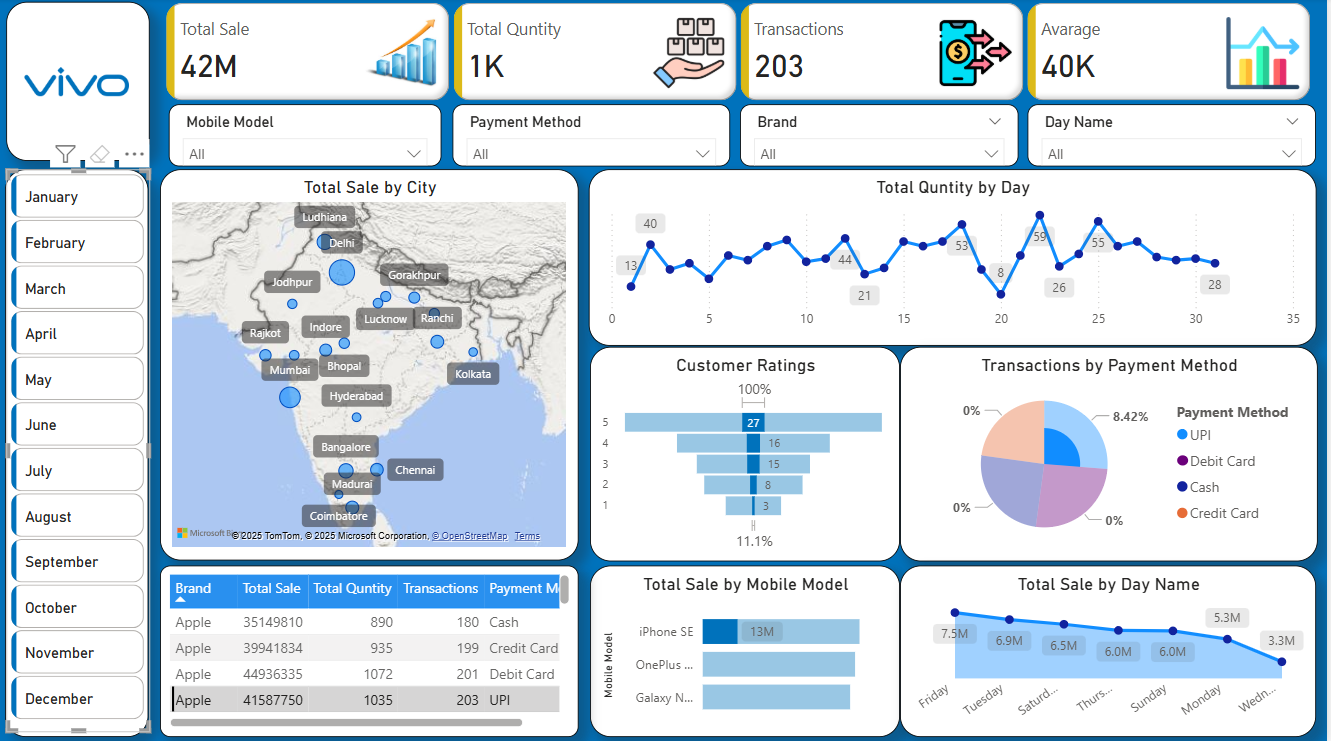

This screenshot's page, from the dashboard's own definition file:
{"tool":"powerbi","page":{"name":"Page 1","canvas":[1280,720],"ordinal":0},"visuals":[{"type":"shape","box":[6,3.6,138.7,153.2],"z":0},{"type":"image","box":[13.3,12.1,121.9,137.5],"z":1000},{"type":"shape","box":[4.8,165.3,138.7,547.7],"z":2000},{"type":"advancedSlicerVisual","fields":{"Values":["Mobile_Sale_Data.Date.Variation.Date Hierarchy.Month"]},"box":[6,165.3,138.7,542.9],"z":3000},{"type":"cardVisual","fields":{"Data":["Mobile_Sale_Data.Total Sale","Mobile_Sale_Data.Total Quntity","Mobile_Sale_Data.Transactions","Mobile_Sale_Data.Avarage"]},"box":[155.6,0,1116,105],"z":4000},{"type":"map","fields":{"Category":["Mobile_Sale_Data.City"],"Size":["Mobile_Sale_Data.Total Sale"]},"box":[154.4,165.3,404.2,377.6],"z":5000},{"type":"lineChart","fields":{"Y":["Mobile_Sale_Data.Total Quntity"],"Category":["Mobile_Sale_Data.Date.Variation.Date Hierarchy.Month","Mobile_Sale_Data.Date.Variation.Date Hierarchy.Day"]},"box":[568.2,165.3,702.1,170.1],"z":6000},{"type":"clusteredBarChart","fields":{"Category":["Mobile_Sale_Data.Mobile Model"],"Y":["Mobile_Sale_Data.Total Sale"]},"box":[569.4,547.7,299.2,165.3],"z":7000},{"type":"pieChart","fields":{"Category":["Mobile_Sale_Data.Payment Method"],"Y":["Mobile_Sale_Data.Transactions"]},"box":[868.6,336.6,403,207.5],"z":8000},{"type":"funnel","title":" Customer Ratings","fields":{"Category":["Mobile_Sale_Data.Customer Ratings"],"Y":["CountNonNull(Mobile_Sale_Data.Customer Ratings)"]},"box":[569.4,336.6,299.2,207.5],"z":9000},{"type":"areaChart","fields":{"Category":["Mobile_Sale_Data.Day Name"],"Y":["Mobile_Sale_Data.Total Sale"]},"box":[868.6,547.7,401.7,165.3],"z":10000},{"type":"tableEx","fields":{"Values":["Mobile_Sale_Data.Brand","Mobile_Sale_Data.Total Sale","Mobile_Sale_Data.Total Quntity","Mobile_Sale_Data.Transactions","Mobile_Sale_Data.Payment Method"]},"box":[154.4,547.7,404.2,165.3],"z":11000},{"type":"slicer","fields":{"Values":["Mobile_Sale_Data.Mobile Model"]},"box":[162.9,102.5,263,60.3],"z":12000},{"type":"slicer","fields":{"Values":["Mobile_Sale_Data.Payment Method"]},"box":[436.7,102.5,267.8,60.3],"z":13000},{"type":"slicer","fields":{"Values":["Mobile_Sale_Data.Brand"]},"box":[714.2,102.5,269,60.3],"z":14000},{"type":"slicer","fields":{"Values":["Mobile_Sale_Data.Day Name"]},"box":[991.7,102.5,278.7,60.3],"z":15000}]}

Visuals, with their boxes in screenshot pixels (x1, y1, x2, y2), scaled from the page's 1280x720 canvas onto the 1331x741 screenshot:
shape: region(6, 4, 150, 161)
image: region(14, 12, 141, 154)
shape: region(5, 170, 149, 734)
advancedSlicerVisual - Mobile_Sale_Data.Date.Variation.Date Hierarchy.Month: region(6, 170, 150, 729)
cardVisual - Mobile_Sale_Data.Total Sale x Mobile_Sale_Data.Total Quntity: region(162, 0, 1322, 108)
map - Mobile_Sale_Data.City x Mobile_Sale_Data.Total Sale: region(161, 170, 581, 559)
lineChart - Mobile_Sale_Data.Total Quntity x Mobile_Sale_Data.Date.Variation.Date Hierarchy.Month: region(591, 170, 1321, 345)
clusteredBarChart - Mobile_Sale_Data.Mobile Model x Mobile_Sale_Data.Total Sale: region(592, 564, 903, 734)
pieChart - Mobile_Sale_Data.Payment Method x Mobile_Sale_Data.Transactions: region(903, 346, 1322, 560)
" Customer Ratings" funnel: region(592, 346, 903, 560)
areaChart - Mobile_Sale_Data.Day Name x Mobile_Sale_Data.Total Sale: region(903, 564, 1321, 734)
tableEx - Mobile_Sale_Data.Brand x Mobile_Sale_Data.Total Sale: region(161, 564, 581, 734)
slicer - Mobile_Sale_Data.Mobile Model: region(169, 105, 443, 168)
slicer - Mobile_Sale_Data.Payment Method: region(454, 105, 733, 168)
slicer - Mobile_Sale_Data.Brand: region(743, 105, 1022, 168)
slicer - Mobile_Sale_Data.Day Name: region(1031, 105, 1321, 168)
